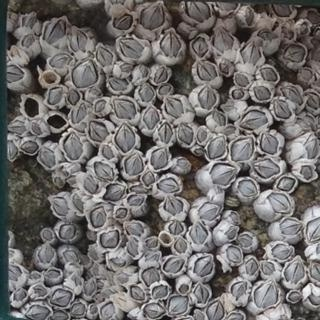Barnacle: (72, 61, 100, 89), (253, 281, 279, 308), (140, 3, 165, 31), (115, 123, 138, 153), (210, 163, 237, 186), (43, 19, 66, 45), (283, 260, 306, 285), (184, 1, 210, 23), (241, 42, 262, 69), (240, 110, 268, 130), (232, 137, 255, 161), (213, 28, 234, 54), (160, 32, 181, 58), (118, 38, 144, 59), (253, 159, 280, 179), (64, 133, 83, 161), (114, 99, 138, 120), (268, 193, 290, 215), (190, 221, 209, 246), (125, 154, 145, 177), (198, 86, 217, 110), (93, 162, 117, 181), (282, 86, 303, 107), (280, 219, 303, 238), (70, 30, 88, 54), (150, 146, 168, 170), (198, 203, 222, 221), (177, 122, 194, 147), (197, 61, 217, 82), (89, 121, 109, 142), (168, 296, 189, 316), (260, 133, 279, 155), (98, 231, 121, 249), (165, 98, 184, 119), (50, 288, 71, 307), (283, 45, 305, 63), (103, 185, 125, 203), (143, 107, 160, 130), (144, 302, 167, 319), (208, 138, 227, 158), (194, 257, 213, 277), (90, 207, 108, 228), (113, 14, 135, 31), (24, 305, 50, 319), (165, 197, 184, 216), (239, 180, 259, 198), (52, 196, 70, 216), (275, 99, 292, 120), (71, 102, 87, 124), (305, 218, 319, 243), (304, 135, 319, 158), (156, 178, 179, 193), (97, 47, 114, 67), (39, 148, 56, 168), (50, 54, 72, 69), (48, 88, 65, 107), (143, 268, 160, 287), (272, 2, 292, 18), (3, 66, 23, 82), (278, 177, 298, 193), (59, 223, 77, 240), (165, 258, 184, 274), (109, 77, 129, 92), (207, 302, 224, 319), (226, 246, 242, 264), (272, 246, 294, 259), (304, 91, 319, 110), (38, 246, 53, 265), (195, 285, 209, 305), (140, 85, 155, 103), (193, 39, 207, 58), (9, 121, 28, 135), (4, 140, 18, 159), (261, 67, 278, 82), (232, 283, 247, 300), (23, 12, 37, 30), (254, 86, 272, 100), (153, 68, 168, 84), (160, 124, 172, 144), (238, 234, 254, 249), (127, 223, 144, 237), (152, 286, 169, 300), (245, 259, 258, 277), (244, 7, 256, 26), (103, 142, 115, 161), (101, 304, 116, 319), (85, 178, 99, 194), (73, 195, 85, 213), (300, 166, 314, 181), (262, 262, 276, 277), (6, 266, 20, 281), (131, 286, 145, 301), (281, 25, 294, 41), (143, 170, 156, 186), (21, 142, 38, 154), (128, 196, 145, 208), (84, 279, 96, 296), (309, 262, 319, 282), (235, 74, 250, 87), (170, 221, 183, 236), (158, 85, 174, 97), (20, 36, 34, 49), (213, 112, 226, 126), (68, 89, 80, 104), (175, 239, 187, 254), (71, 304, 86, 316), (259, 29, 275, 40), (128, 242, 139, 258), (50, 310, 69, 319), (64, 250, 78, 262), (197, 128, 208, 143), (307, 12, 319, 25), (14, 290, 27, 302), (115, 207, 129, 218), (222, 127, 237, 137), (33, 288, 48, 298), (310, 48, 319, 64), (301, 69, 313, 81), (302, 116, 314, 128), (226, 228, 238, 240), (113, 256, 125, 268), (32, 122, 42, 136), (146, 252, 160, 262), (147, 237, 159, 248), (95, 100, 105, 113), (177, 159, 190, 169), (72, 274, 82, 287), (288, 292, 301, 302), (309, 293, 319, 306), (47, 270, 61, 279), (132, 186, 149, 193), (120, 65, 133, 74), (232, 91, 245, 100), (10, 46, 20, 57), (42, 231, 53, 241), (220, 63, 229, 75), (231, 212, 240, 224), (140, 66, 148, 79), (80, 255, 90, 265), (89, 248, 98, 259), (299, 25, 308, 35), (54, 176, 63, 186), (68, 175, 76, 186), (227, 314, 244, 319), (105, 290, 115, 298), (194, 312, 205, 319), (196, 148, 205, 156), (180, 285, 189, 293), (8, 249, 15, 259), (315, 28, 319, 42)
